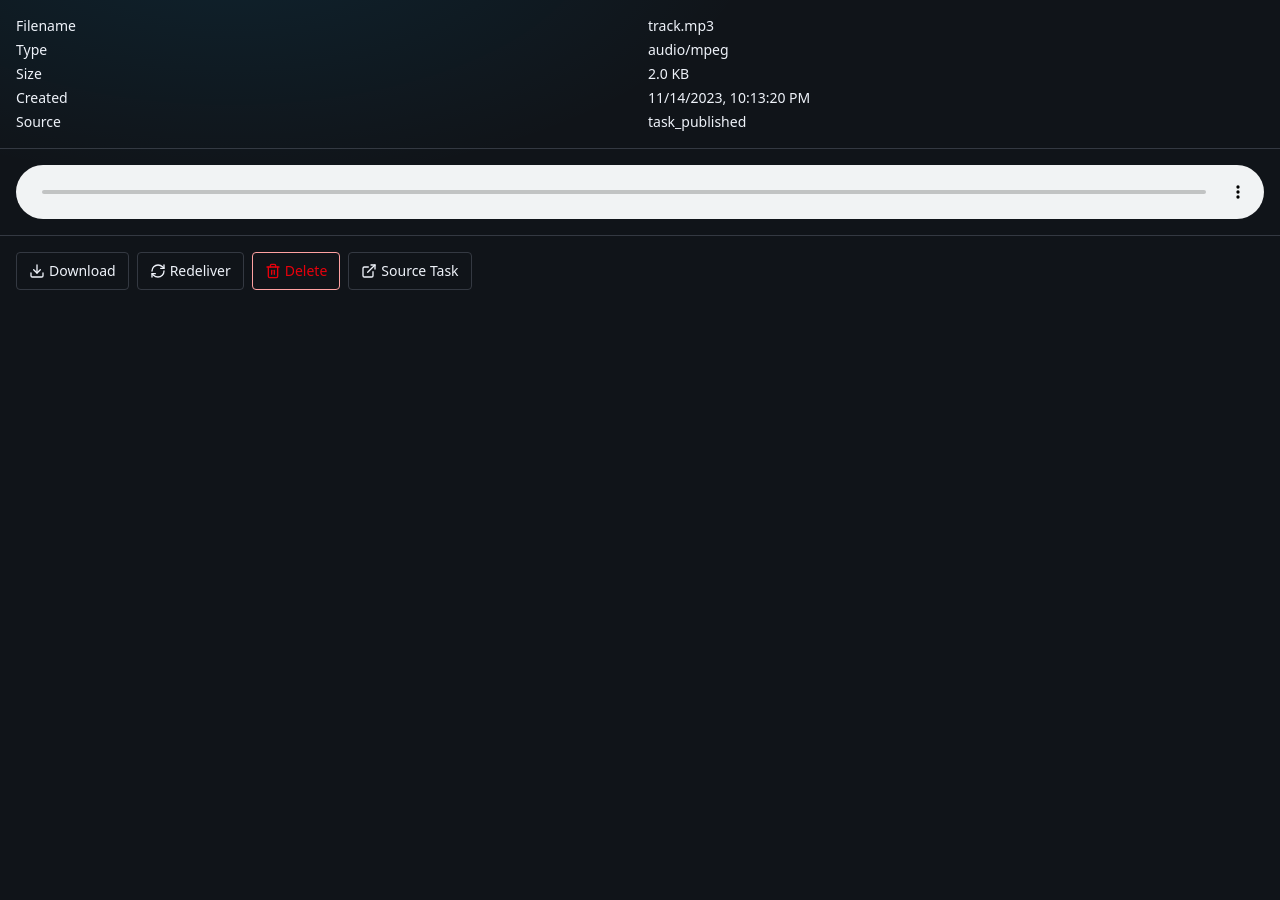
Test: ArtifactDetail › Delete on audio mime shows DangerConfirmDialog
The image size is (1280, 900).
Click the button with test id "delete-btn" at {"x": 296, "y": 271}, box [252, 252, 340, 290]
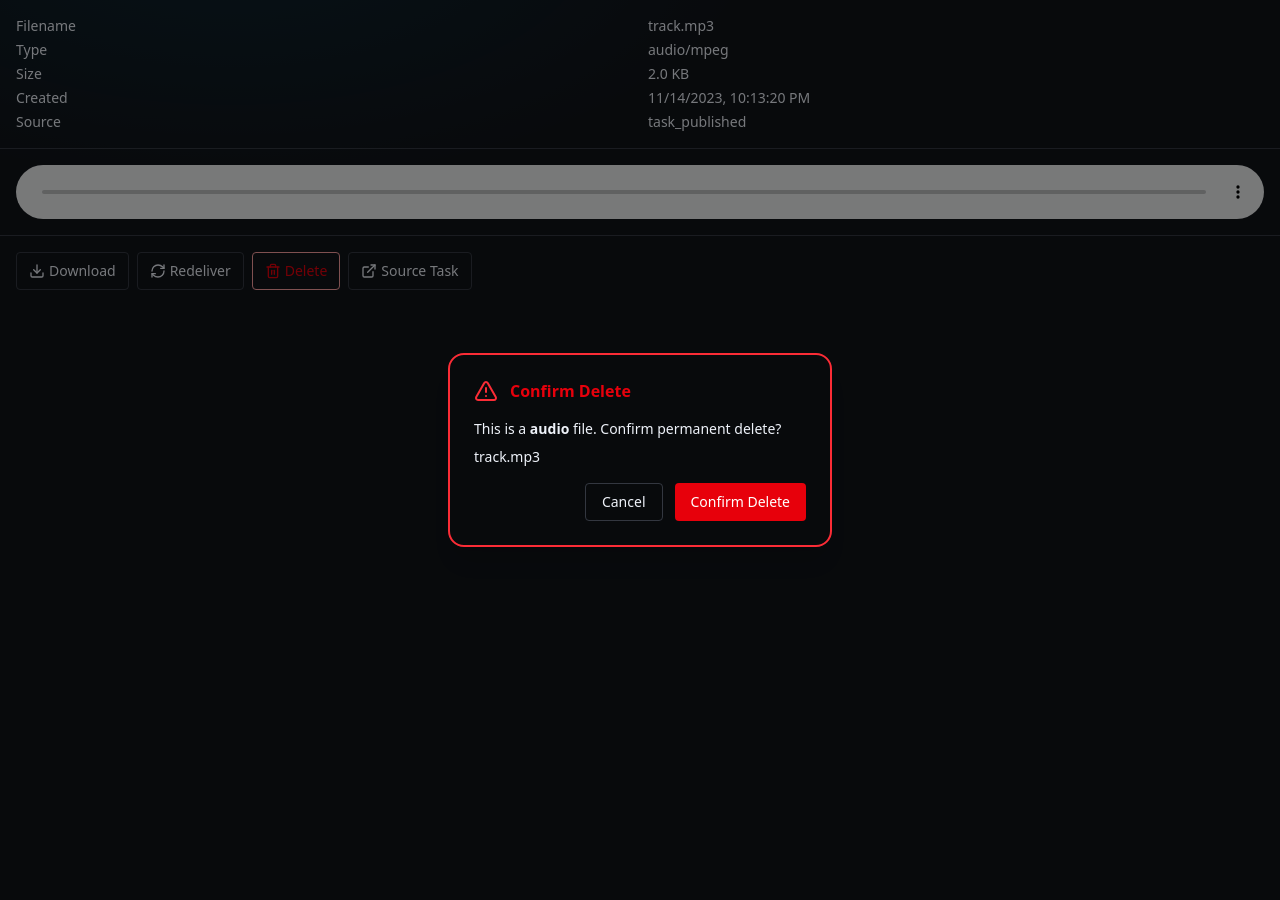
Now the dialog with test id "danger-dialog" is shown, box [448, 353, 832, 547]
Now the element with test id "danger-dialog-body" shows "audio", box [530, 419, 569, 438]
